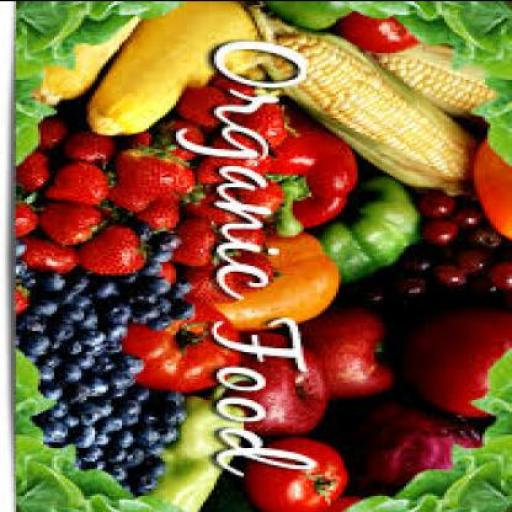biodegradable: (250, 2, 480, 188), (262, 1, 511, 166), (16, 345, 186, 510), (346, 343, 511, 511), (18, 1, 190, 161), (89, 0, 263, 133), (333, 396, 485, 495), (241, 111, 361, 232), (154, 372, 258, 510), (396, 290, 511, 412), (211, 230, 344, 328), (312, 171, 428, 282), (122, 299, 244, 388), (38, 11, 147, 100), (295, 303, 398, 397), (241, 332, 336, 430), (380, 39, 504, 111), (247, 433, 355, 511), (114, 144, 197, 203), (336, 10, 428, 52), (78, 224, 157, 272), (198, 132, 276, 180), (220, 100, 290, 144), (43, 199, 108, 244), (46, 160, 114, 198), (173, 216, 222, 264), (184, 261, 244, 299), (184, 84, 233, 129), (211, 72, 263, 110), (182, 188, 240, 222), (25, 236, 86, 268), (224, 251, 278, 286), (238, 178, 285, 215), (65, 127, 116, 161), (220, 222, 274, 252), (160, 119, 206, 153), (138, 196, 182, 230), (19, 150, 54, 188), (38, 110, 70, 148), (114, 180, 154, 209), (19, 198, 49, 234), (120, 130, 158, 152), (24, 330, 56, 352), (71, 345, 100, 369), (154, 228, 184, 250), (54, 360, 86, 380), (92, 278, 122, 299), (89, 393, 119, 414), (120, 397, 146, 421), (13, 279, 33, 309), (38, 270, 68, 290), (133, 300, 160, 322), (125, 352, 152, 374), (138, 422, 166, 443), (65, 380, 95, 399), (38, 380, 65, 400), (60, 360, 84, 382), (108, 299, 133, 320), (46, 418, 71, 439), (49, 318, 78, 336), (82, 440, 108, 460), (157, 420, 184, 439), (87, 372, 114, 391), (122, 443, 149, 462), (146, 274, 174, 292), (103, 443, 132, 460), (141, 456, 168, 474), (106, 462, 133, 480), (92, 354, 120, 370), (133, 473, 160, 489), (35, 296, 62, 312), (24, 311, 49, 328), (62, 303, 87, 320), (82, 307, 104, 326), (82, 454, 108, 470), (98, 414, 124, 430), (125, 384, 152, 399), (146, 246, 174, 260), (82, 326, 108, 341), (111, 372, 141, 385), (46, 401, 76, 414), (114, 427, 138, 443), (103, 322, 132, 335), (176, 274, 196, 292), (141, 257, 165, 272), (114, 270, 141, 283), (52, 286, 78, 299), (163, 387, 187, 401), (155, 314, 179, 328), (105, 337, 130, 350), (165, 286, 185, 302), (16, 258, 36, 274), (70, 272, 92, 286), (51, 347, 73, 361), (65, 410, 84, 426), (138, 220, 154, 238), (100, 428, 116, 445), (40, 357, 56, 374), (179, 302, 198, 316), (151, 439, 171, 452), (160, 296, 176, 310), (24, 270, 40, 283), (19, 236, 30, 253), (178, 403, 190, 418), (162, 408, 176, 420), (112, 385, 128, 395)
